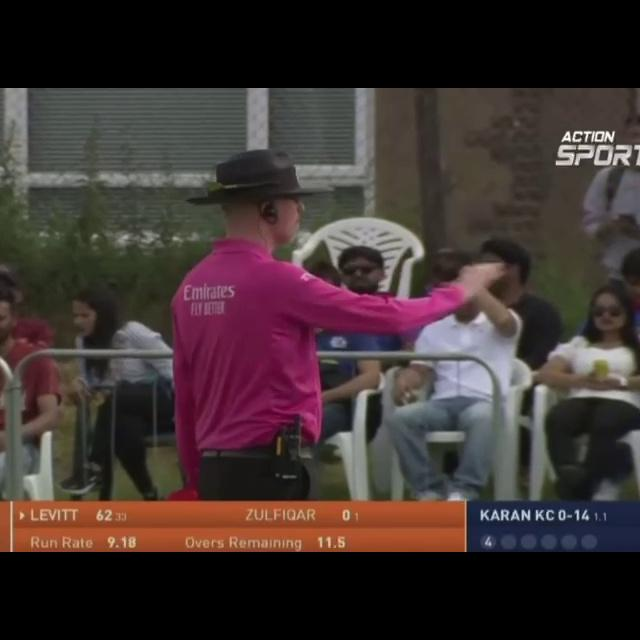umpire: (120, 130, 516, 492)
